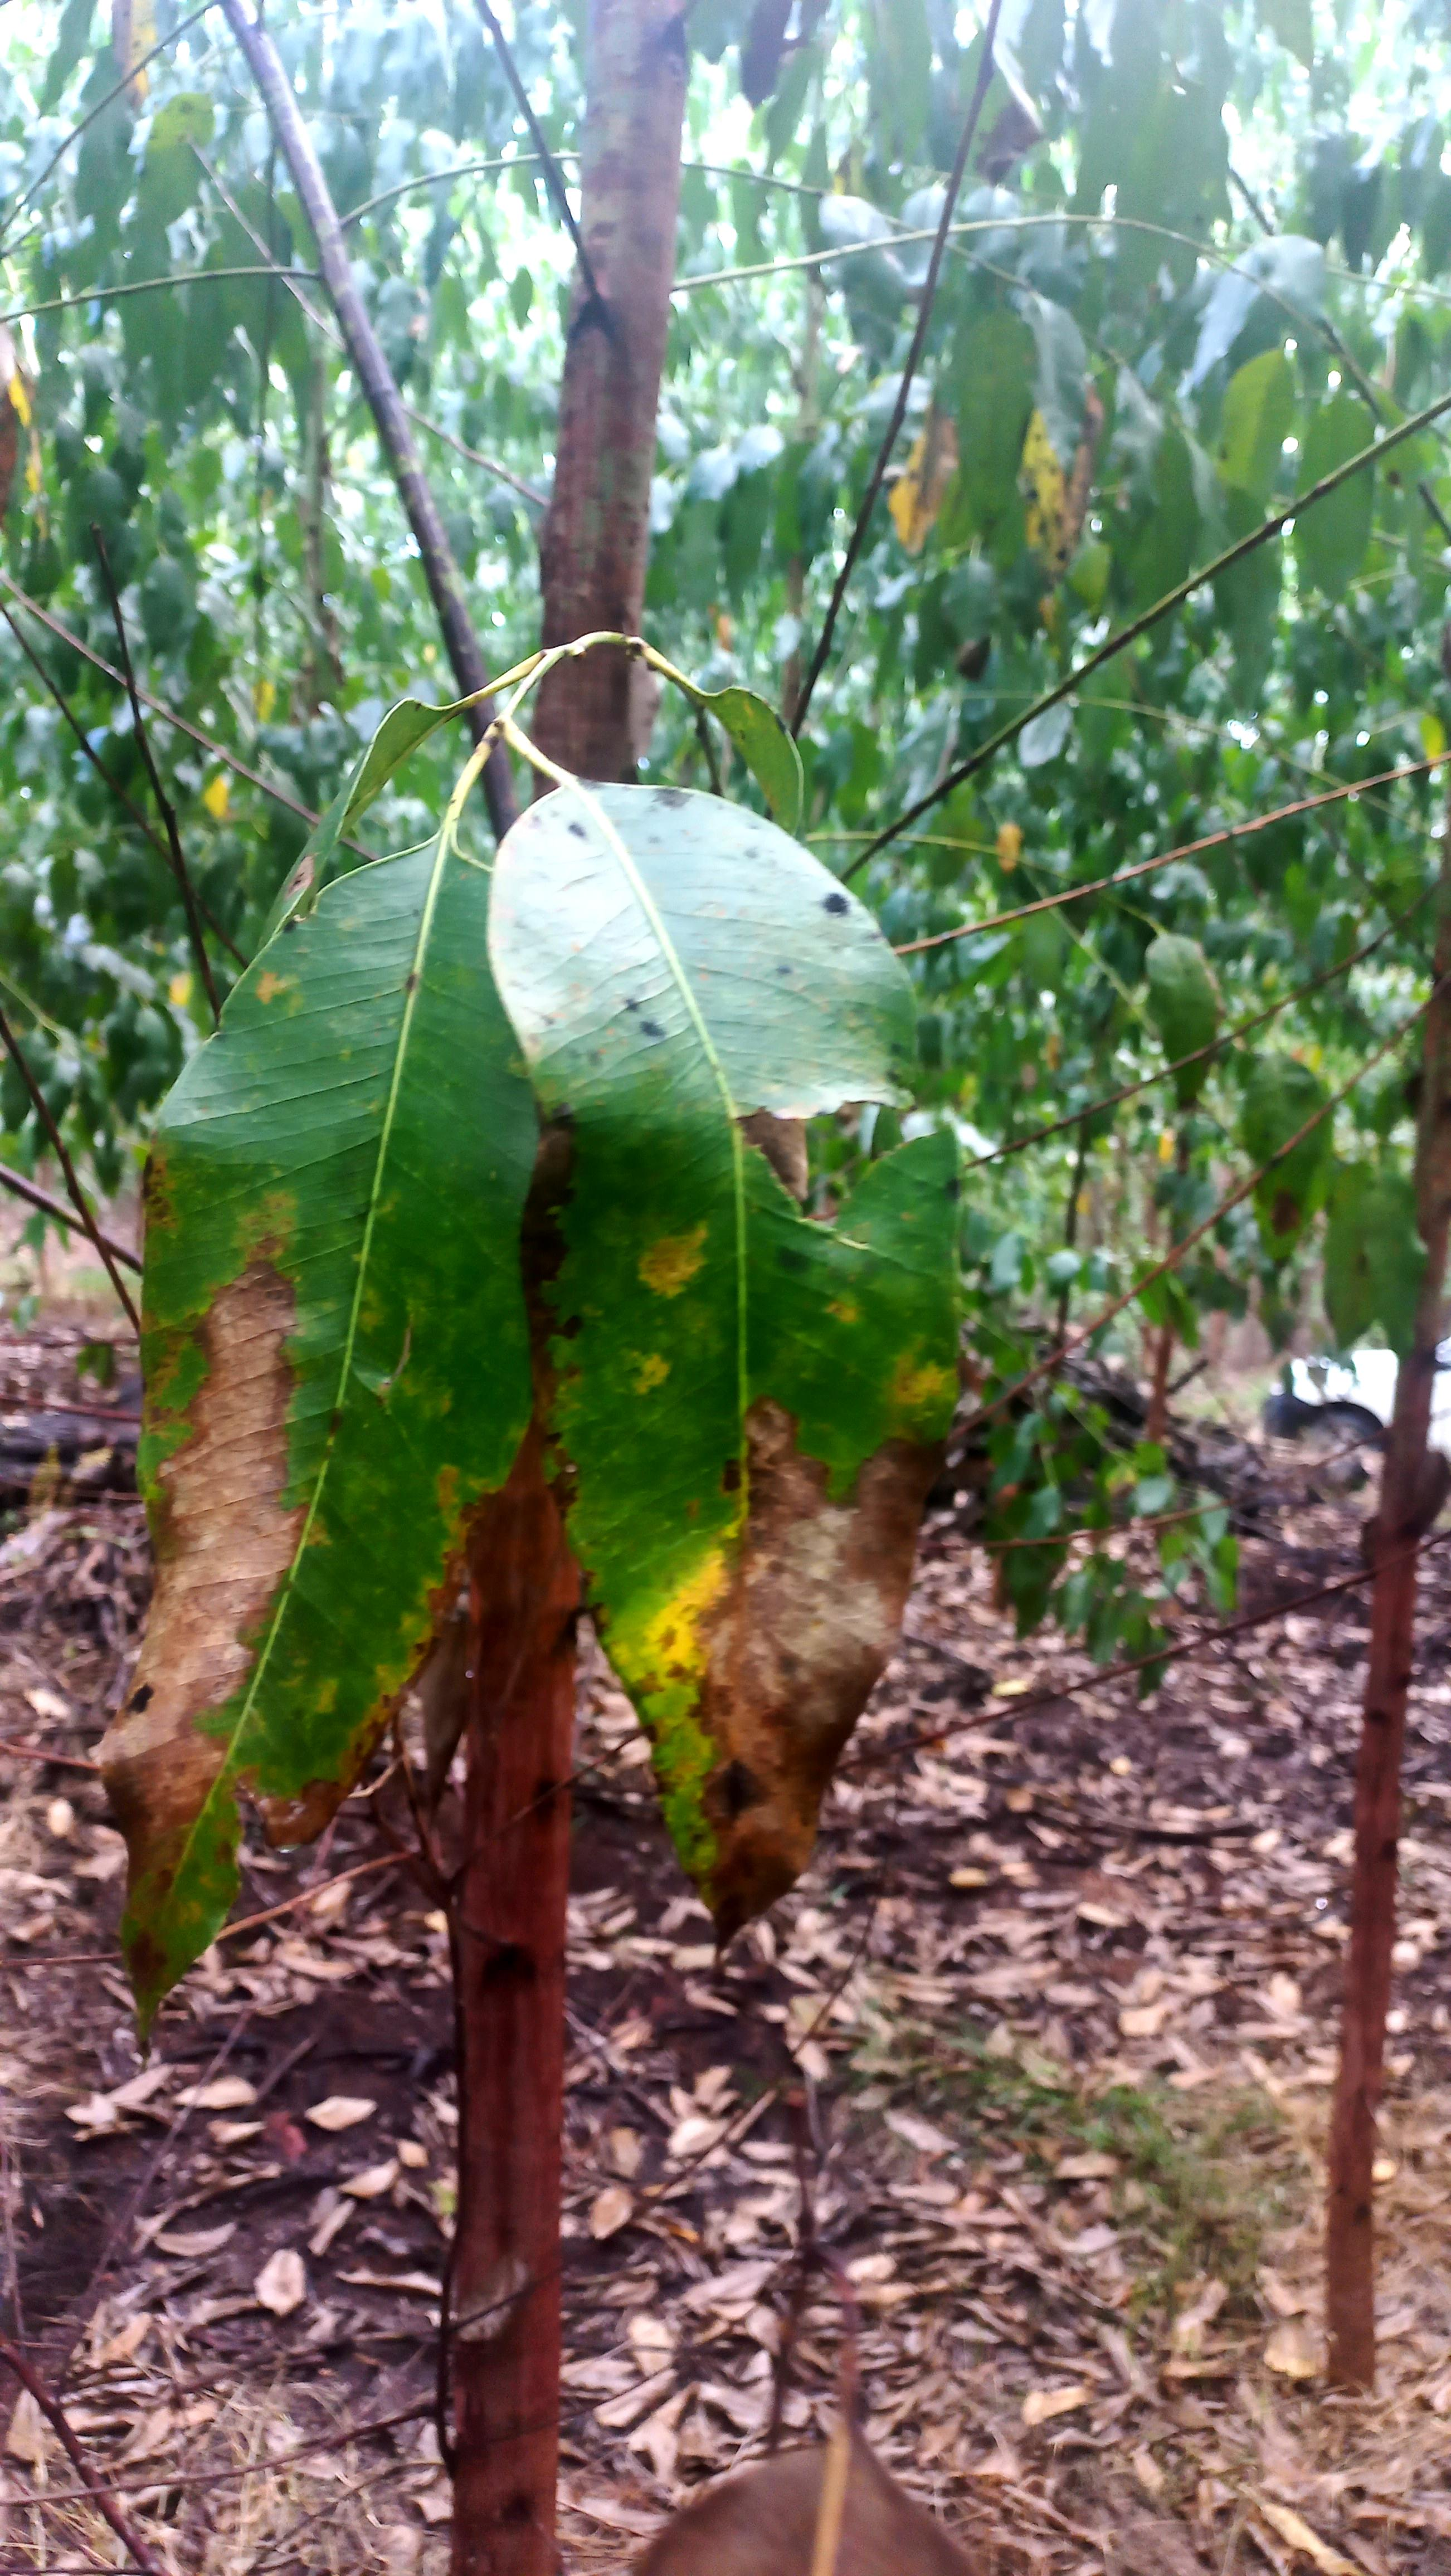Cylindrocladium: (699, 1389, 943, 1955), (104, 1244, 290, 1875), (517, 1111, 580, 1522)
